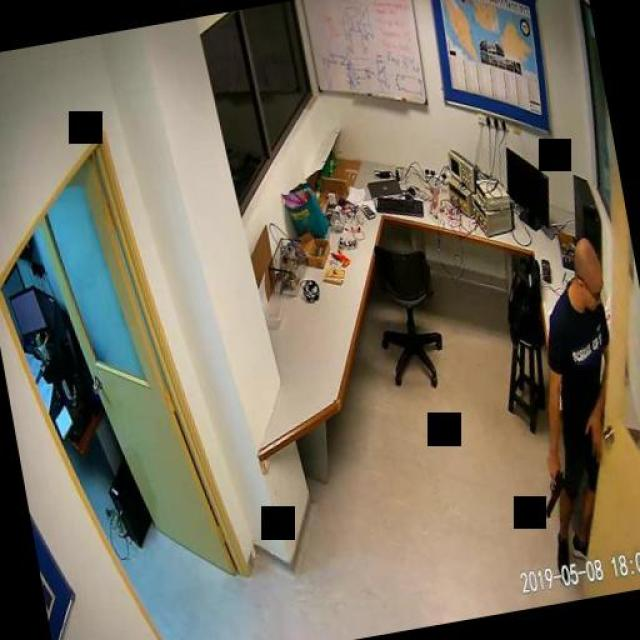gun: (532, 450, 568, 519)
